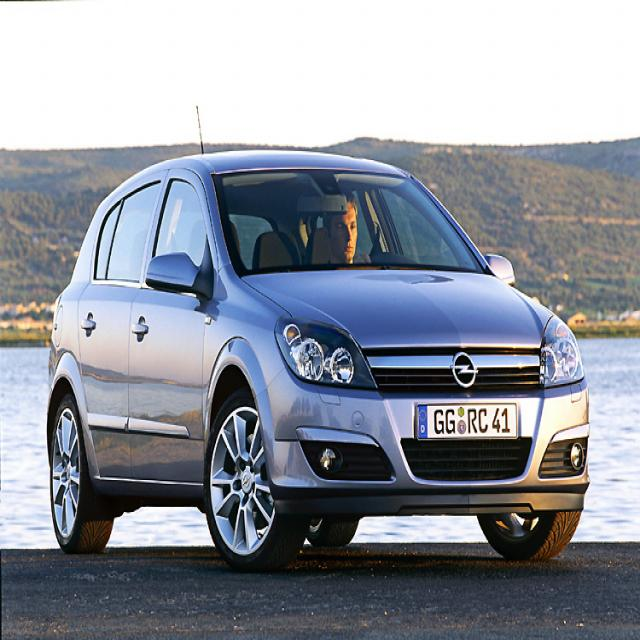Car: (35, 141, 595, 566)
